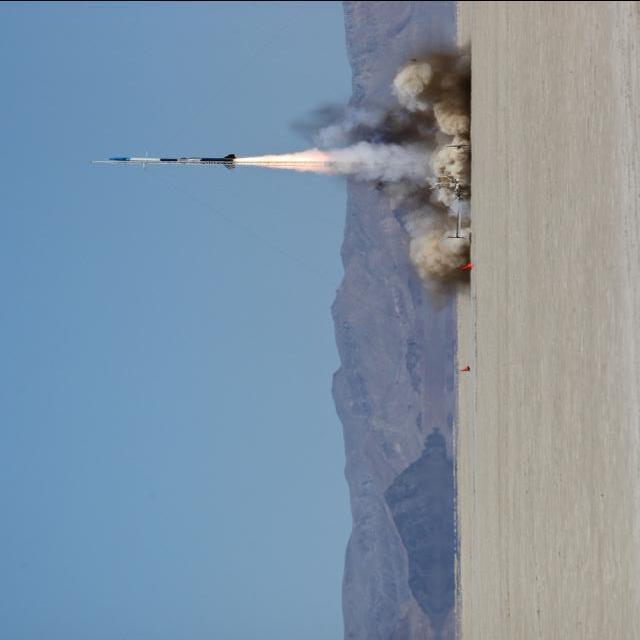missile: (90, 147, 241, 189)
